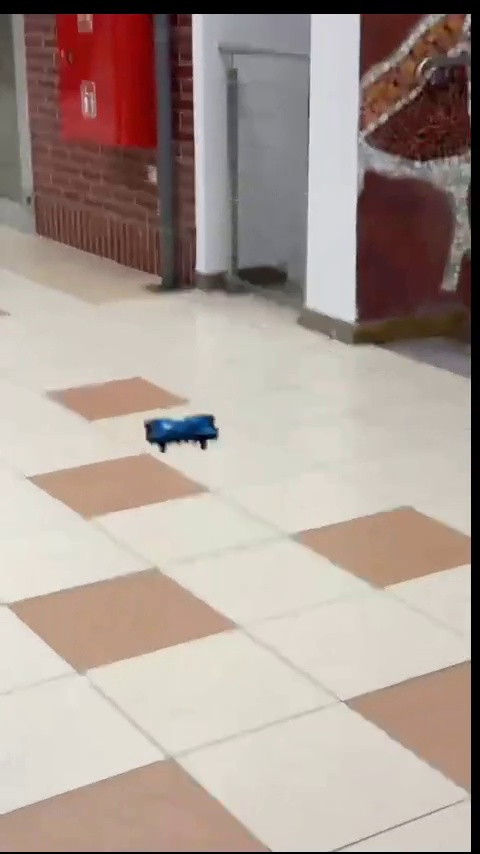drone: (140, 412, 221, 446)
